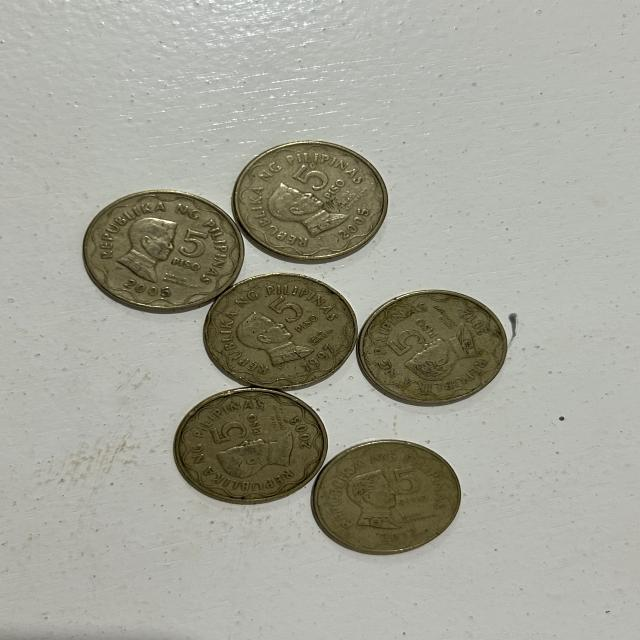5_Old_Front: (192, 411, 290, 448), (258, 292, 328, 340), (284, 157, 344, 203), (376, 315, 449, 352), (388, 462, 438, 514), (168, 226, 220, 275)
